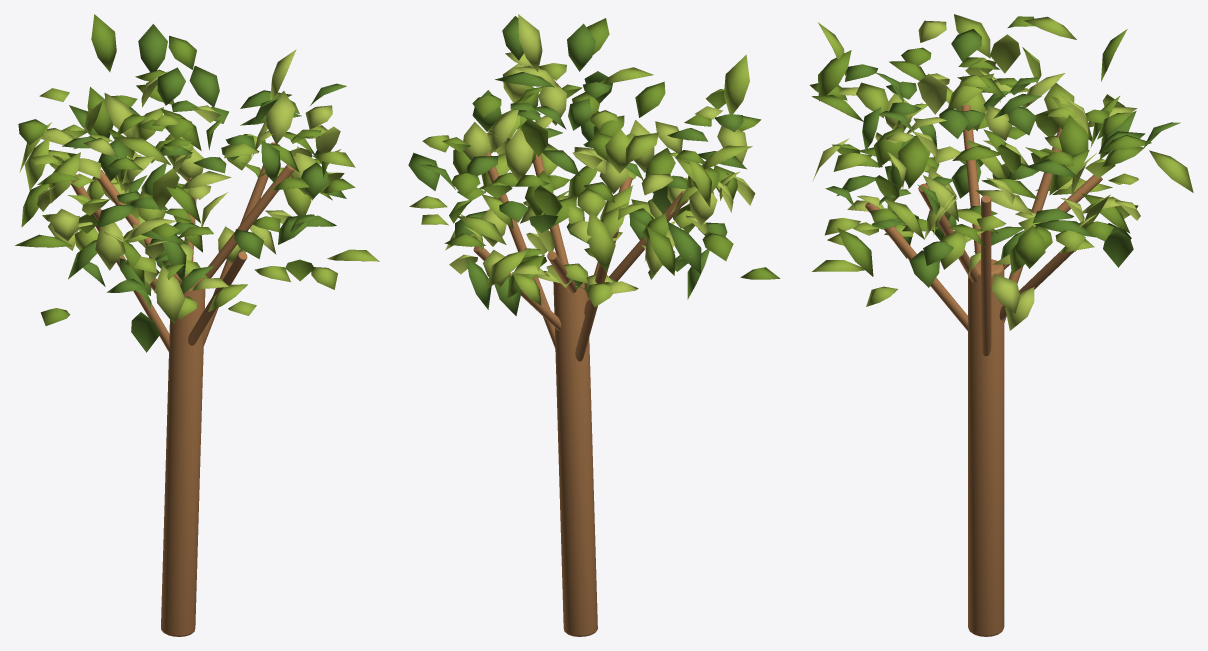
File: CourtyardTree.fbx
The picture shows the model from 3 angles, left to right: view 1: azimuth 30°, elevation 25°; view 2: azimuth 150°, elevation 25°; view 3: azimuth 270°, elevation 25°; orthographic projection. The views are drawn at different scales.
Parts seen in each view (by area): view 1: Trunk, Branch.005, Canopy leaf.098, Canopy leaf.047, Canopy leaf.070, Canopy leaf.064, Canopy leaf.110, Branch.002, Canopy leaf.155, Branch, Branch.001, Canopy leaf.027 (+18 smaller); view 2: Trunk, Canopy leaf.061, Canopy leaf.013, Canopy leaf.026, Canopy leaf.151, Canopy leaf.138, Canopy leaf.159, Branch, Branch.004, Branch.001, Canopy leaf.166, Canopy leaf.120 (+21 smaller); view 3: Trunk, Branch, Branch.002, Canopy leaf.124, Canopy leaf.136, Branch.004, Canopy leaf.144, Canopy leaf.156, Canopy leaf.138, Canopy leaf.132, Canopy leaf.046, Canopy leaf.109 (+17 smaller).
Boxes of the visible parts, x1,y1,x2,y2 form: Trunk: [161, 273, 205, 636]; Branch.005: [203, 164, 294, 279]; Canopy leaf.098: [155, 265, 184, 324]; Canopy leaf.047: [138, 24, 167, 72]; Canopy leaf.070: [266, 91, 295, 144]; Canopy leaf.064: [91, 14, 116, 71]; Canopy leaf.110: [95, 222, 123, 270]; Branch.002: [188, 251, 247, 345]; Canopy leaf.155: [189, 66, 219, 107]; Branch: [203, 142, 280, 345]; Branch.001: [71, 174, 169, 351]; Canopy leaf.027: [131, 312, 159, 352]; Trunk: [553, 282, 597, 636]; Canopy leaf.061: [587, 211, 615, 272]; Canopy leaf.013: [724, 54, 749, 114]; Canopy leaf.026: [504, 127, 533, 181]; Canopy leaf.151: [567, 23, 595, 71]; Canopy leaf.138: [518, 14, 542, 71]; Canopy leaf.159: [667, 222, 701, 274]; Branch: [486, 151, 555, 348]; Branch.004: [584, 190, 686, 315]; Branch.001: [575, 229, 619, 361]; Canopy leaf.166: [463, 122, 491, 160]; Canopy leaf.120: [647, 226, 675, 275]; Trunk: [968, 259, 1004, 636]; Branch: [981, 195, 991, 355]; Branch.002: [865, 202, 968, 330]; Canopy leaf.124: [898, 135, 928, 188]; Canopy leaf.136: [1059, 115, 1088, 174]; Branch.004: [961, 105, 980, 253]; Canopy leaf.144: [818, 50, 851, 101]; Canopy leaf.156: [1015, 225, 1045, 268]; Canopy leaf.138: [917, 73, 947, 114]; Canopy leaf.132: [837, 228, 873, 276]; Canopy leaf.046: [991, 273, 1020, 313]; Canopy leaf.109: [990, 34, 1020, 73].
Size of the model in its own units: 2.13 by 3.67 by 2.12.
